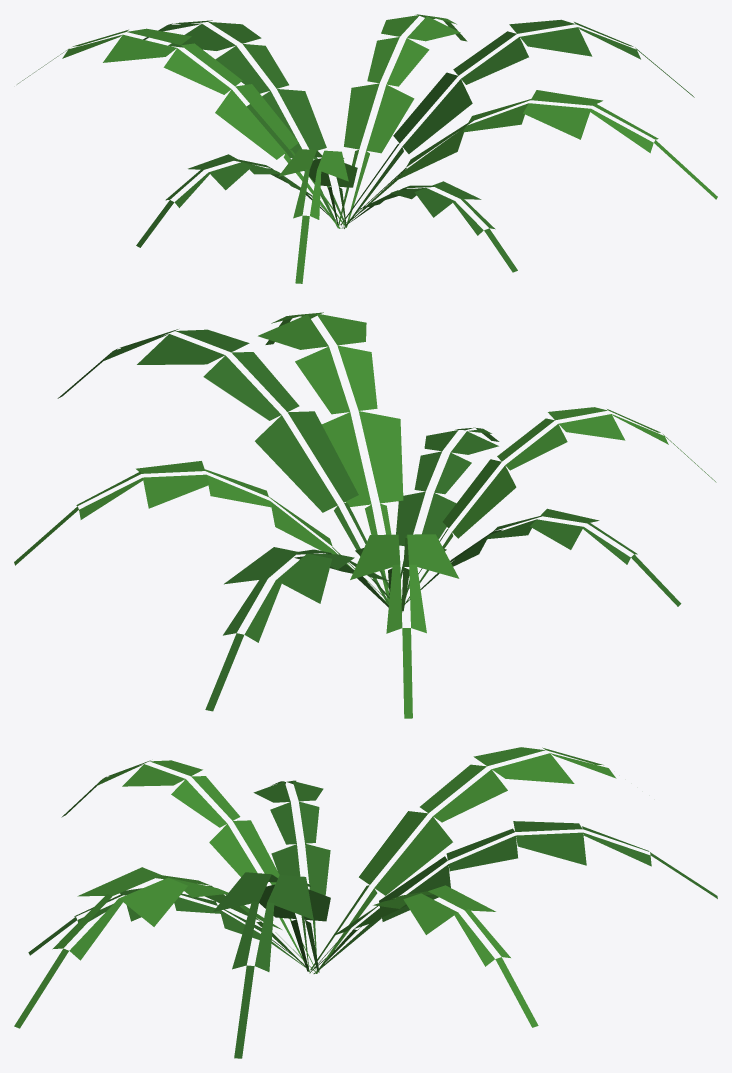
File: Fern_A.fbx
The picture shows the model from 3 angles, top to bottom: view 1: azimuth 30°, elevation 25°; view 2: azimuth 150°, elevation 25°; view 3: azimuth 270°, elevation 25°; orthographic projection. The views are drawn at different scales.
Visible parts, largest first — view 1: Fern_A.001; view 2: Fern_A.001; view 3: Fern_A.001.
Boxes of the visible parts, bbox=[...] form: Fern_A.001: bbox=[17, 14, 717, 283]; Fern_A.001: bbox=[14, 312, 716, 718]; Fern_A.001: bbox=[14, 747, 717, 1058].
Size of the model in its own units: 1.36 by 0.4016 by 1.39.
